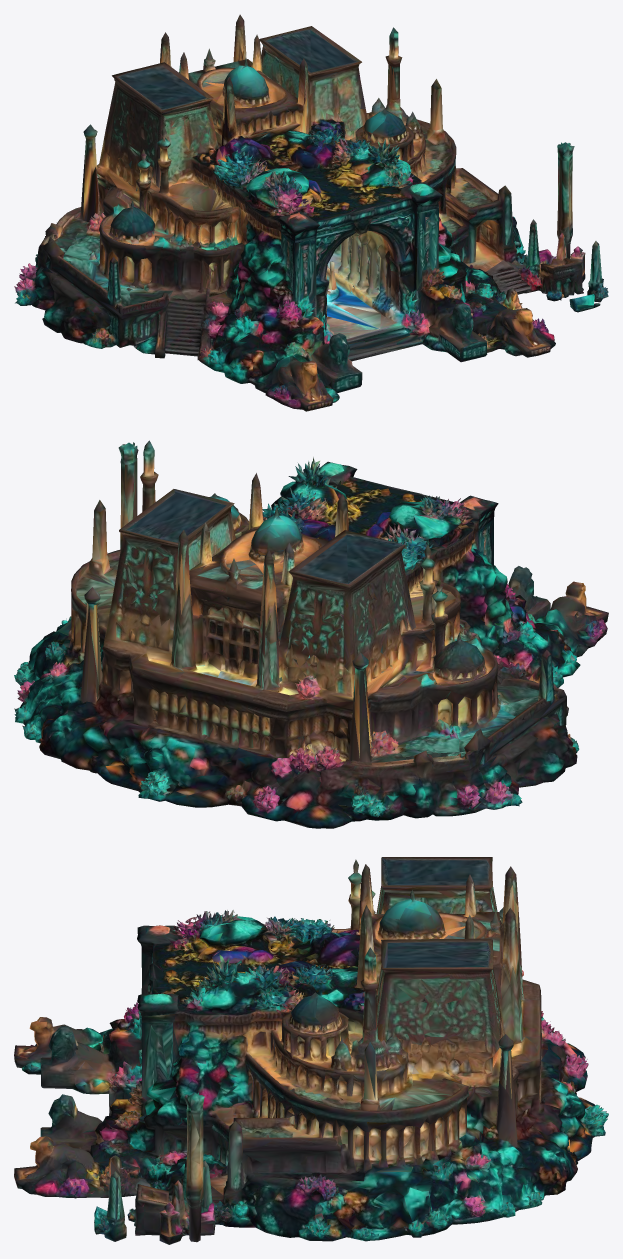
The model's file is Luminous_Coral_Citade.glb.
3 views of the same model, one above another, from view 1: azimuth 30°, elevation 25°; view 2: azimuth 150°, elevation 25°; view 3: azimuth 270°, elevation 25° (orthographic). The views are drawn at different scales.
Parts seen in each view (by area): view 1: Luminous_Coral_Citade; view 2: Luminous_Coral_Citade; view 3: Luminous_Coral_Citade.
Part boxes in pixels (<box>): Luminous_Coral_Citade: <box>14,14,608,411</box>; Luminous_Coral_Citade: <box>14,440,608,828</box>; Luminous_Coral_Citade: <box>14,857,608,1244</box>.
Size of the model in its own units: 1.9 by 0.8448 by 1.89.
Materials: 1 (1 with a texture image).
